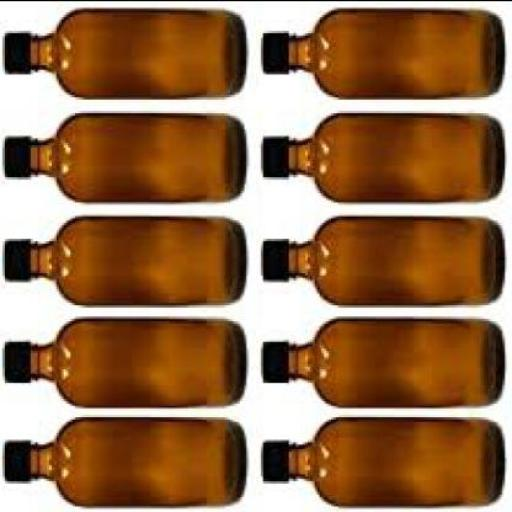glass: (28, 112, 244, 206), (26, 317, 244, 410), (286, 415, 503, 508), (286, 318, 503, 409), (286, 10, 503, 100), (28, 418, 244, 508), (286, 217, 503, 306), (28, 217, 244, 306), (26, 12, 244, 98), (286, 114, 500, 200)
plastic: (256, 239, 288, 284), (0, 137, 31, 181), (260, 440, 291, 482), (2, 441, 31, 485), (256, 137, 284, 181), (0, 32, 26, 78), (2, 340, 28, 385), (258, 36, 287, 76), (258, 340, 284, 382)
